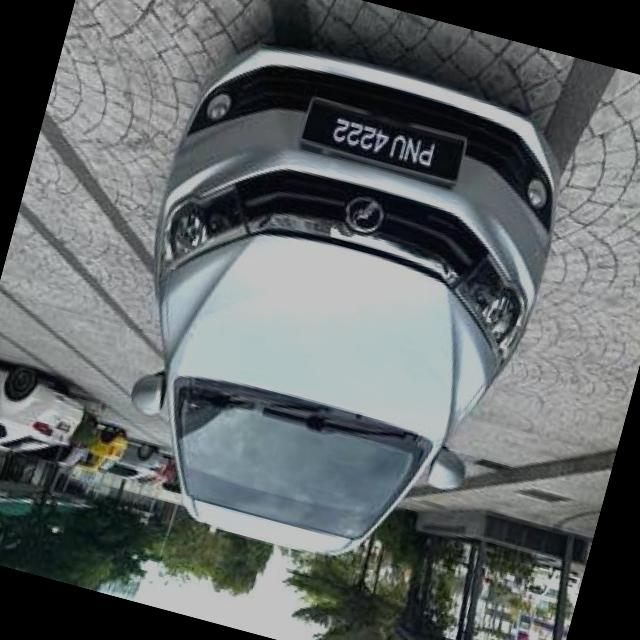PeroduaBezza: (81, 20, 586, 596)
